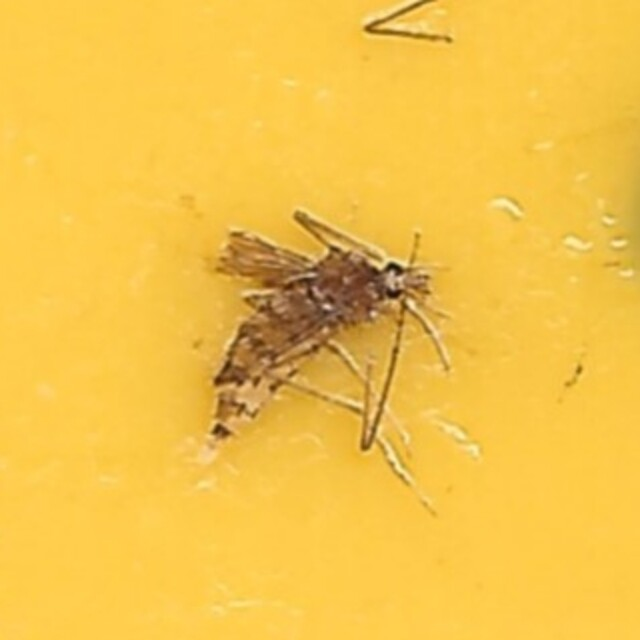Nematocera: (200, 197, 440, 443)
